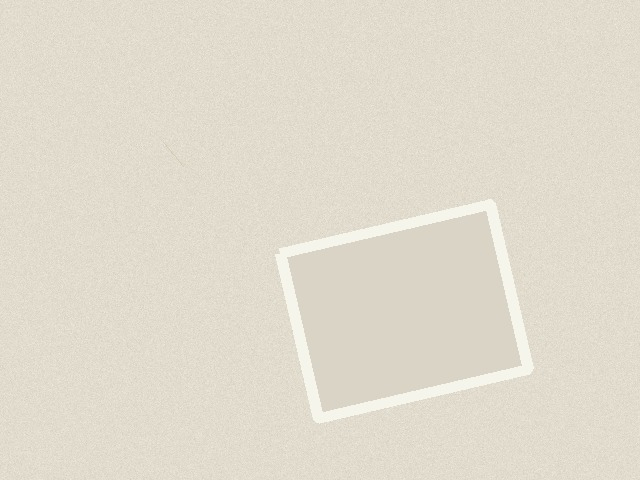parking_area: (280, 204, 528, 418)
